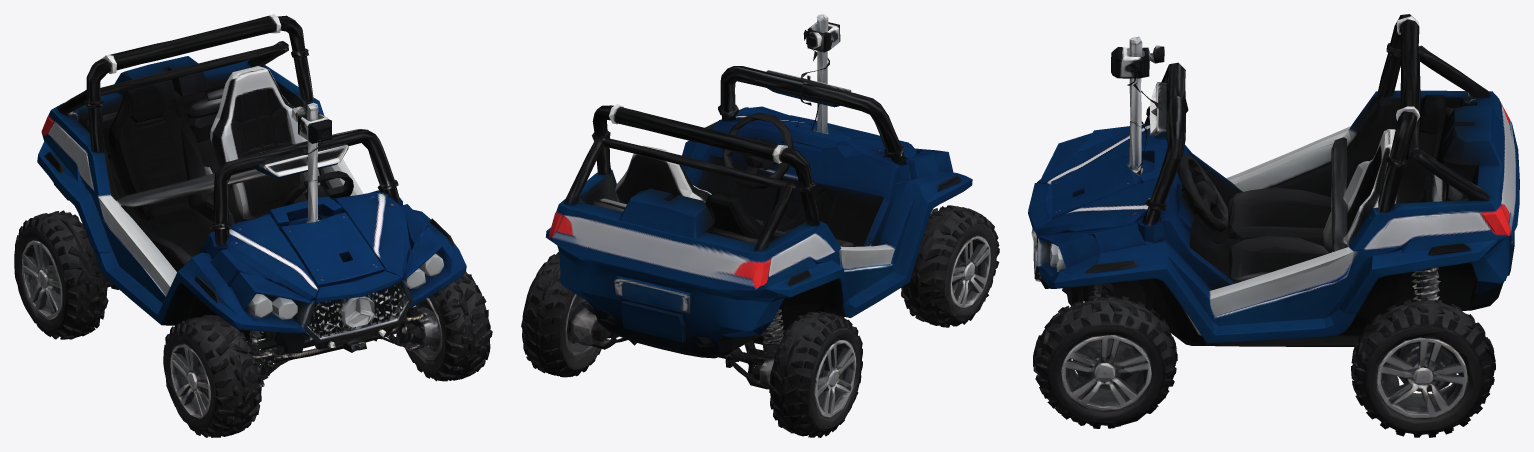
The model's file is base_basic_pbr.glb.
The picture shows the model from 3 angles, left to right: view 1: azimuth 30°, elevation 25°; view 2: azimuth 150°, elevation 25°; view 3: azimuth 270°, elevation 25°; orthographic projection. The views are drawn at different scales.
Parts seen in each view (by area): view 1: model; view 2: model; view 3: model.
Boxes of the visible parts, left/top/right/bottom form: model: left=14, top=14, right=492, bottom=437; model: left=521, top=14, right=999, bottom=437; model: left=1028, top=14, right=1519, bottom=437.
Size of the model in its own units: 1.44 by 1.39 by 1.9.
Materials: 1 (1 with a texture image).
